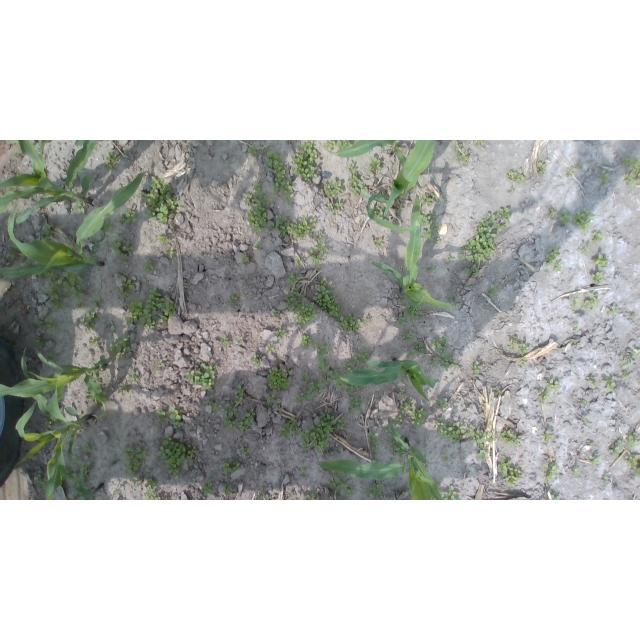Maize: (1, 172, 146, 281), (369, 194, 456, 313), (319, 420, 444, 500), (14, 385, 94, 500), (0, 347, 108, 430), (0, 141, 100, 224), (367, 141, 438, 232), (341, 357, 440, 404), (339, 140, 398, 157), (76, 468, 105, 500)
Weeds: (458, 208, 511, 277), (125, 289, 176, 330), (299, 409, 337, 454), (144, 176, 179, 224), (243, 181, 272, 234), (267, 151, 294, 205), (155, 436, 186, 478), (283, 290, 317, 327), (293, 140, 321, 182), (315, 277, 342, 317), (433, 419, 476, 444), (120, 444, 149, 475), (185, 362, 217, 390), (497, 456, 524, 485), (400, 398, 427, 426), (346, 164, 368, 197), (328, 473, 357, 498), (44, 284, 69, 312), (267, 365, 294, 390), (307, 239, 329, 269), (288, 217, 316, 240), (109, 335, 133, 361), (35, 315, 66, 335), (306, 378, 330, 403), (343, 352, 369, 375), (570, 292, 599, 312), (111, 236, 134, 261), (279, 417, 302, 441), (235, 408, 257, 433), (622, 157, 640, 187), (572, 208, 594, 232), (540, 378, 561, 402), (338, 313, 362, 333), (475, 429, 498, 449), (432, 335, 452, 358), (269, 214, 287, 238), (453, 141, 470, 166), (80, 311, 101, 331), (118, 208, 138, 229), (545, 247, 562, 271), (223, 404, 238, 431), (58, 270, 83, 286), (404, 301, 425, 320), (324, 179, 345, 198), (505, 167, 527, 185), (505, 338, 527, 356), (117, 275, 135, 296), (543, 462, 561, 483), (499, 429, 521, 446), (361, 483, 383, 500), (70, 474, 84, 500), (71, 455, 91, 473), (619, 433, 640, 450), (624, 455, 640, 477), (168, 406, 184, 428), (423, 225, 442, 243), (220, 458, 240, 475), (408, 341, 427, 358), (440, 485, 460, 500), (142, 469, 156, 490), (348, 395, 364, 413), (287, 271, 302, 290), (37, 268, 57, 282), (368, 433, 381, 454), (337, 381, 358, 394), (9, 246, 25, 263), (390, 441, 406, 458), (72, 200, 88, 217), (104, 153, 120, 170), (439, 356, 458, 370), (592, 252, 608, 268), (200, 480, 216, 496), (204, 396, 219, 413), (313, 342, 330, 357), (625, 348, 640, 365), (234, 385, 246, 405), (40, 223, 53, 241), (420, 212, 437, 225), (69, 286, 84, 300), (88, 296, 104, 309), (603, 377, 616, 393), (590, 231, 604, 245), (300, 335, 313, 350), (239, 444, 254, 457), (559, 212, 572, 227), (536, 160, 548, 176), (369, 156, 381, 172), (372, 204, 384, 220), (161, 247, 175, 260), (43, 351, 57, 364), (274, 328, 288, 341), (608, 444, 621, 458), (586, 376, 601, 388), (247, 147, 265, 157), (156, 235, 172, 246), (471, 361, 484, 374), (264, 393, 277, 406), (421, 192, 435, 204), (255, 488, 269, 500), (337, 141, 352, 152), (187, 446, 198, 461), (402, 331, 417, 342), (327, 203, 343, 213), (101, 220, 113, 233), (85, 391, 98, 403), (220, 336, 233, 348), (590, 272, 602, 285), (227, 292, 240, 304), (488, 284, 500, 296), (436, 398, 448, 410), (427, 357, 440, 368), (476, 450, 489, 461), (599, 172, 610, 185), (295, 392, 306, 405), (143, 261, 154, 274), (383, 426, 393, 440), (223, 483, 233, 497), (43, 419, 55, 430), (10, 151, 22, 162), (579, 244, 591, 255), (89, 336, 100, 348), (396, 313, 408, 324), (132, 475, 143, 487), (129, 370, 142, 380), (250, 353, 259, 367), (156, 411, 167, 422), (146, 492, 161, 500), (336, 419, 348, 429), (63, 468, 72, 481), (35, 475, 45, 486), (329, 370, 340, 380), (154, 362, 166, 371), (298, 466, 308, 476), (542, 430, 552, 440), (35, 340, 46, 349), (547, 493, 561, 500), (64, 233, 76, 241), (268, 343, 277, 353), (609, 305, 618, 315), (565, 168, 575, 177), (325, 140, 336, 148), (117, 386, 131, 392), (306, 493, 318, 500), (592, 457, 601, 466), (621, 372, 630, 381), (295, 257, 303, 267), (83, 443, 93, 451), (301, 372, 309, 381), (375, 239, 383, 248), (241, 254, 249, 263), (400, 294, 409, 302), (323, 358, 330, 368), (397, 414, 404, 424), (427, 265, 437, 272), (441, 456, 451, 463), (581, 415, 589, 423), (112, 489, 120, 497), (572, 469, 580, 477), (448, 296, 457, 303), (494, 389, 503, 396), (520, 359, 529, 366), (584, 441, 594, 447), (75, 302, 82, 310), (551, 208, 558, 216), (237, 336, 244, 344), (573, 324, 580, 332), (447, 257, 456, 263), (475, 141, 485, 146), (397, 204, 404, 211), (603, 477, 610, 484), (274, 310, 281, 317), (575, 163, 583, 169), (573, 341, 581, 347), (315, 233, 321, 240), (256, 243, 263, 249), (508, 188, 515, 194), (451, 402, 457, 409), (315, 363, 321, 369), (88, 237, 94, 243), (277, 405, 283, 411), (364, 318, 370, 324), (631, 315, 637, 321), (620, 362, 626, 368), (399, 390, 405, 395), (584, 399, 589, 405), (617, 355, 623, 360), (182, 284, 188, 289), (137, 193, 144, 197), (9, 187, 16, 191), (244, 294, 249, 299), (400, 436, 404, 441), (482, 404, 486, 409), (329, 496, 333, 500)
